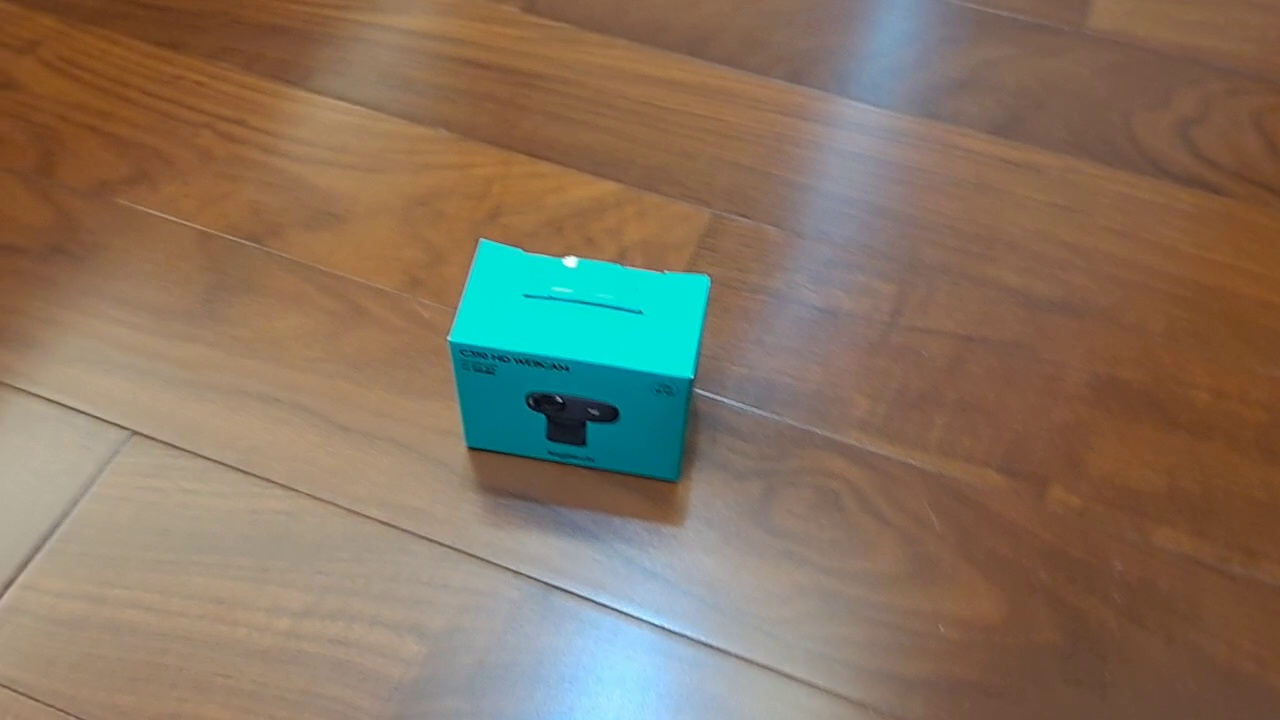webcam: (445, 236, 712, 484)
